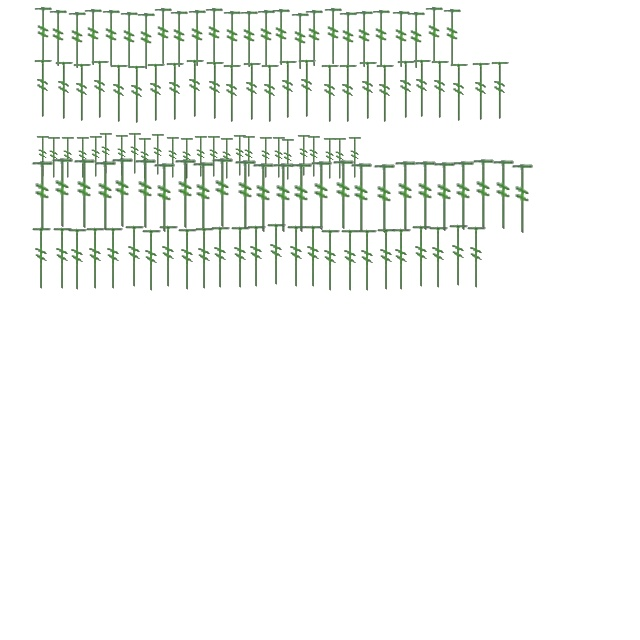fan: (30, 160, 54, 232), (50, 157, 74, 229), (72, 158, 96, 230), (93, 160, 117, 232), (110, 157, 134, 229), (133, 158, 157, 230), (152, 162, 176, 234), (173, 158, 197, 230), (191, 161, 215, 233), (210, 157, 234, 229), (233, 159, 257, 231), (251, 162, 275, 234), (271, 162, 295, 234), (289, 162, 313, 234), (309, 160, 333, 232), (331, 159, 355, 231), (349, 162, 373, 234), (372, 163, 396, 235), (393, 160, 417, 232), (413, 160, 437, 232), (432, 161, 456, 233), (451, 160, 475, 232), (471, 158, 495, 230), (491, 159, 515, 231), (510, 163, 534, 235), (66, 226, 90, 294), (176, 226, 200, 294), (390, 226, 414, 294), (30, 226, 54, 292), (84, 226, 108, 292), (102, 226, 126, 292), (140, 228, 164, 294), (302, 224, 326, 290), (356, 228, 380, 294), (410, 224, 434, 290), (210, 224, 232, 292), (230, 224, 252, 292), (376, 226, 398, 294), (428, 224, 450, 292), (448, 222, 470, 290), (466, 224, 488, 292), (52, 226, 74, 292), (124, 224, 146, 290), (158, 224, 180, 290), (194, 226, 216, 292), (246, 224, 268, 290), (266, 222, 288, 288), (286, 224, 308, 290), (320, 228, 342, 294), (340, 228, 362, 294), (89, 58, 111, 122), (108, 62, 130, 126), (164, 60, 186, 124), (221, 62, 243, 126), (241, 60, 263, 124), (259, 62, 281, 126), (277, 58, 299, 122), (319, 62, 341, 126), (337, 62, 359, 126), (374, 62, 396, 126), (395, 58, 417, 122), (429, 58, 451, 122), (470, 60, 492, 124), (32, 58, 54, 120), (53, 60, 75, 122), (71, 62, 93, 124), (126, 64, 148, 126), (145, 62, 167, 124), (184, 58, 206, 120), (204, 60, 226, 122), (296, 58, 318, 120), (357, 60, 379, 122), (411, 58, 433, 120), (448, 62, 470, 124), (489, 60, 511, 122), (33, 6, 53, 66), (83, 8, 103, 68), (136, 12, 156, 72), (169, 10, 189, 70), (222, 10, 242, 70), (239, 10, 259, 70), (271, 8, 291, 68), (290, 12, 310, 72), (354, 10, 374, 70), (391, 10, 411, 70), (424, 6, 444, 66), (442, 8, 462, 68), (48, 10, 68, 68), (67, 12, 87, 70), (101, 10, 121, 68), (119, 12, 139, 70), (153, 8, 173, 66), (187, 10, 207, 68), (204, 8, 224, 66), (256, 10, 276, 68), (304, 10, 324, 68), (323, 8, 343, 66), (338, 12, 358, 70), (371, 10, 391, 68), (406, 12, 426, 70), (35, 134, 51, 180), (88, 134, 104, 180), (137, 136, 153, 182), (150, 132, 166, 178), (179, 136, 195, 182), (193, 134, 209, 180), (206, 134, 222, 180), (219, 136, 235, 182), (241, 134, 257, 180), (306, 134, 322, 180), (322, 136, 338, 182), (332, 136, 348, 182), (46, 136, 62, 180), (60, 136, 76, 180), (75, 136, 91, 180), (98, 132, 114, 176), (114, 134, 130, 178), (127, 132, 143, 176), (165, 136, 181, 180), (232, 134, 248, 178), (258, 136, 274, 180), (271, 136, 287, 180), (280, 138, 296, 182), (296, 134, 312, 178), (347, 136, 363, 180)
